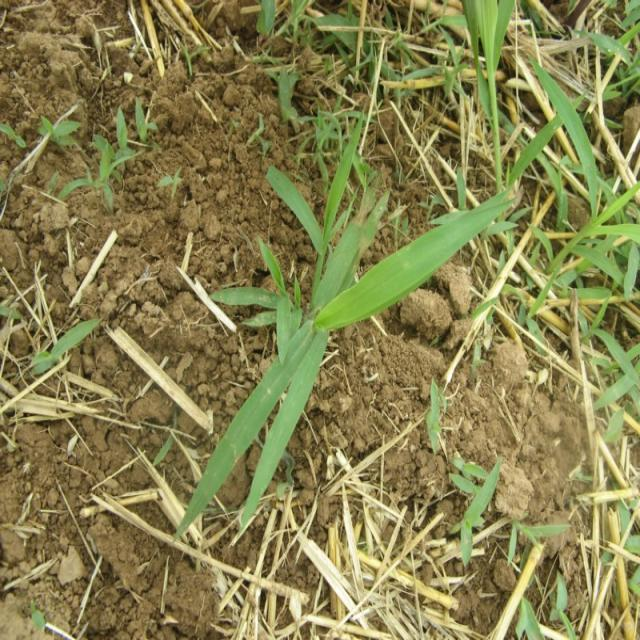bg: (174, 190, 522, 529)
